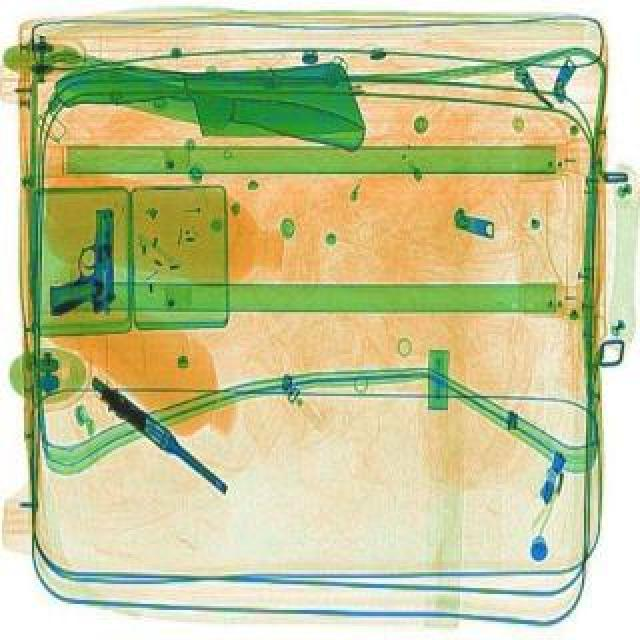gun: (84, 376, 240, 498), (50, 212, 118, 320)
knife: (58, 58, 370, 160), (54, 68, 370, 160)
